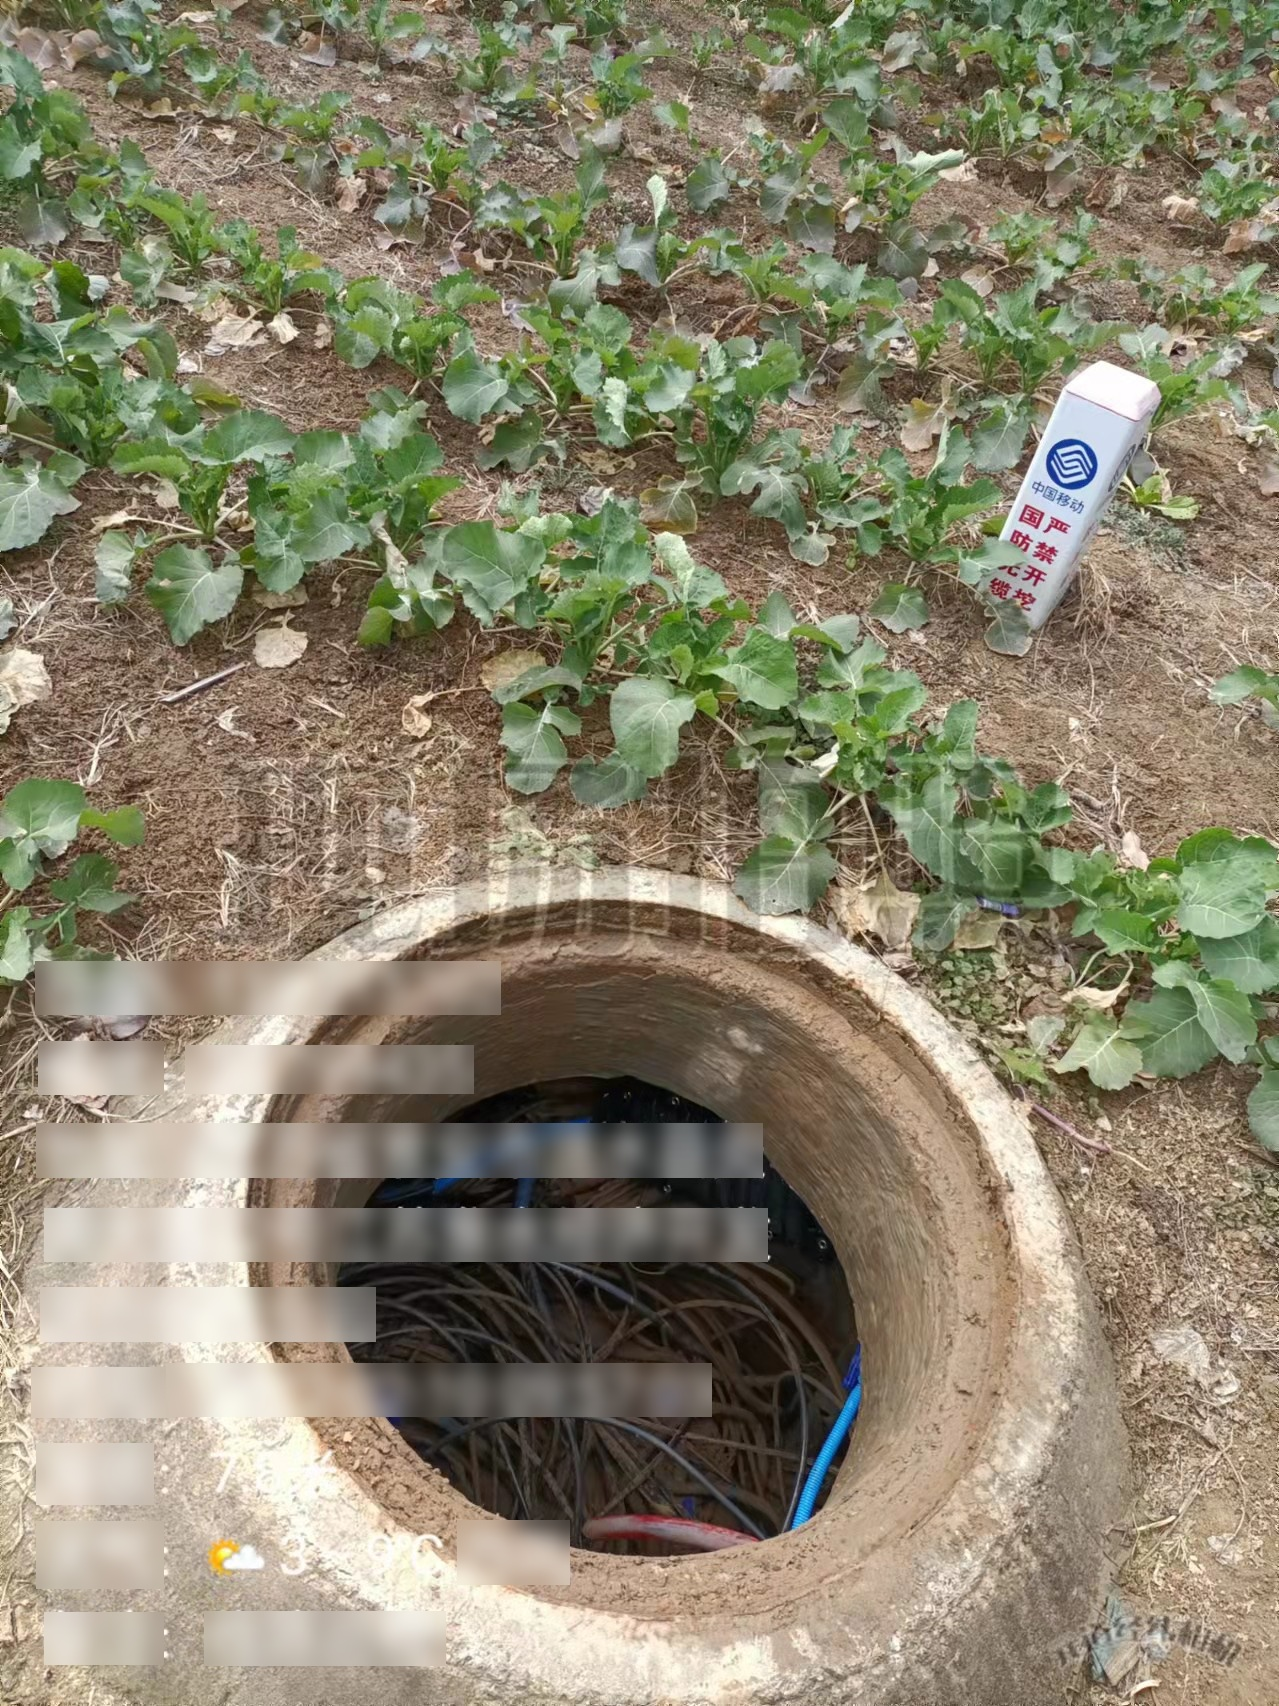lose: (177, 877, 1094, 1706)
